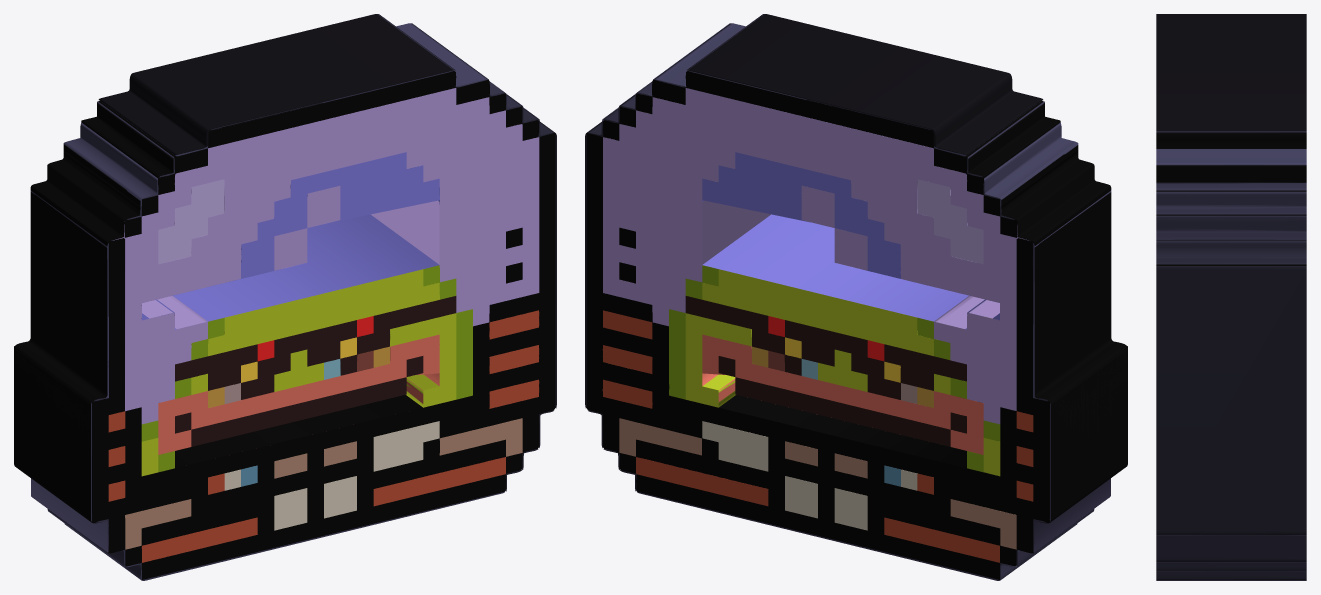
File: Toadz_6371.glb
The picture shows the model from 3 angles, left to right: view 1: azimuth 30°, elevation 25°; view 2: azimuth 150°, elevation 25°; view 3: azimuth 270°, elevation 25°; orthographic projection. The views are drawn at different scales.
Parts seen in each view (by area): view 1: Curve; view 2: Curve; view 3: Curve.
Boxes of the visible parts, box(x1,y1,x2,y2) form: Curve: box(14, 14, 556, 580); Curve: box(585, 14, 1127, 580); Curve: box(1156, 14, 1306, 580).
Bounding box in the file's own units: 3.5 × 3.13 × 1.
